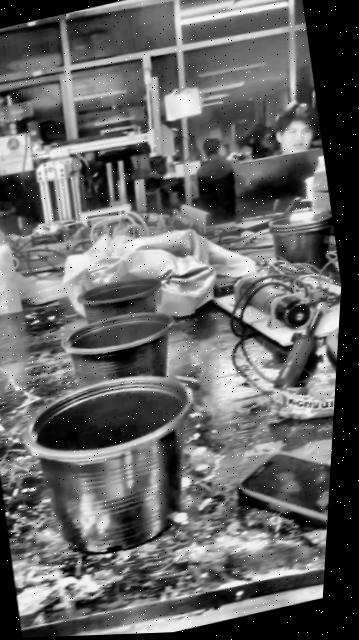pot: (11, 366, 217, 568), (62, 312, 173, 386), (268, 211, 333, 271), (76, 279, 159, 323)
